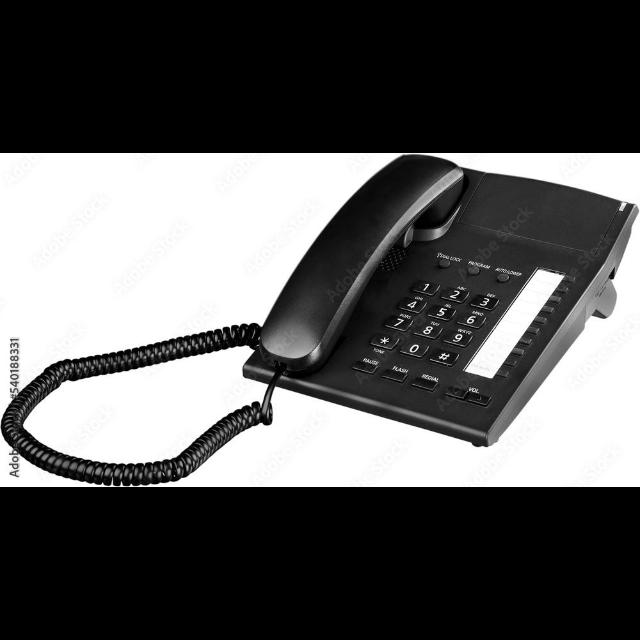Telephone-Set: (258, 158, 640, 436)
